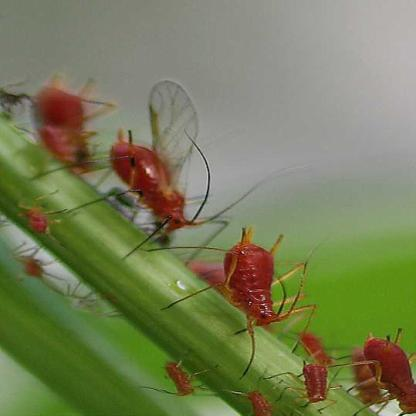aphid: (91, 65, 233, 236), (202, 219, 320, 339), (12, 70, 119, 168), (338, 326, 416, 416), (275, 353, 353, 413), (6, 185, 79, 232), (154, 358, 223, 404), (280, 322, 341, 368), (222, 385, 292, 416)
